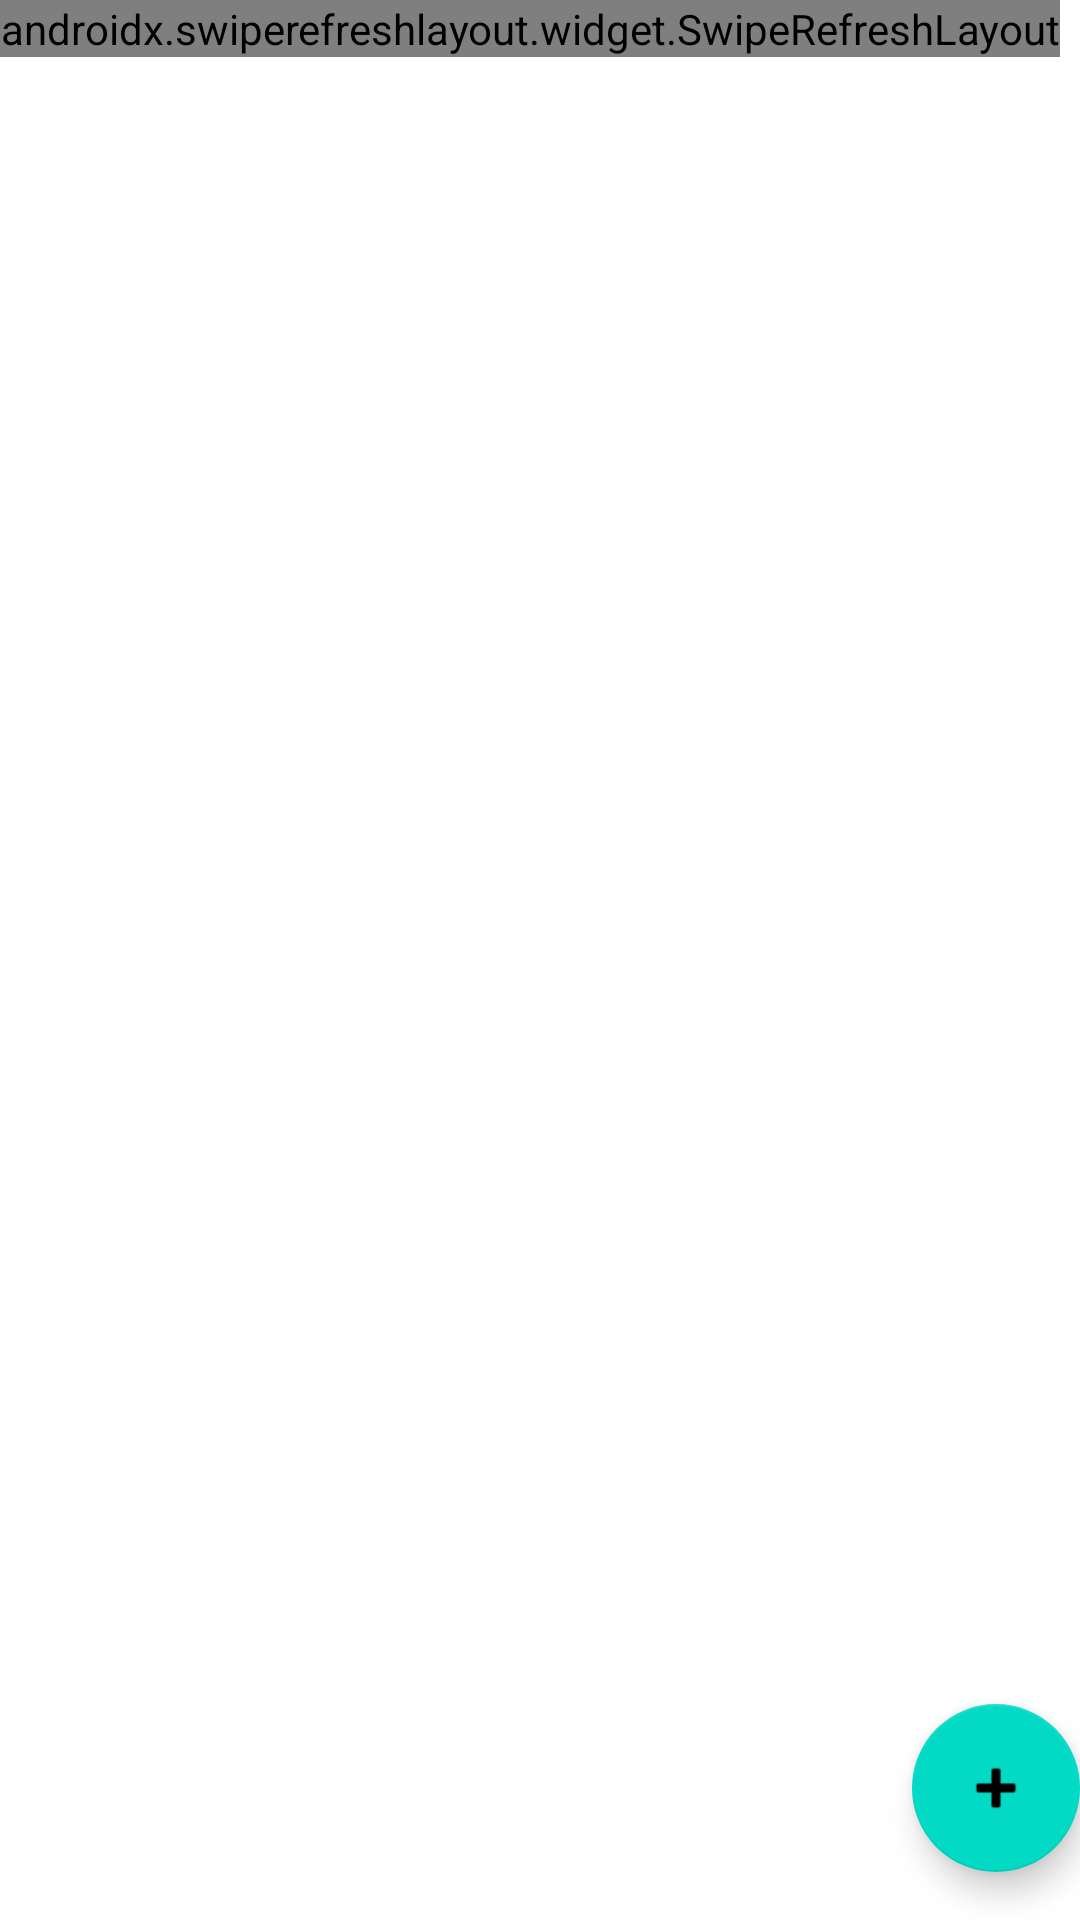

Named icons in this screenshot (1080w x 1920h) and their bounding boxes, [x1, y1, x2, y2]:
add: [912, 1704, 1080, 1872]
